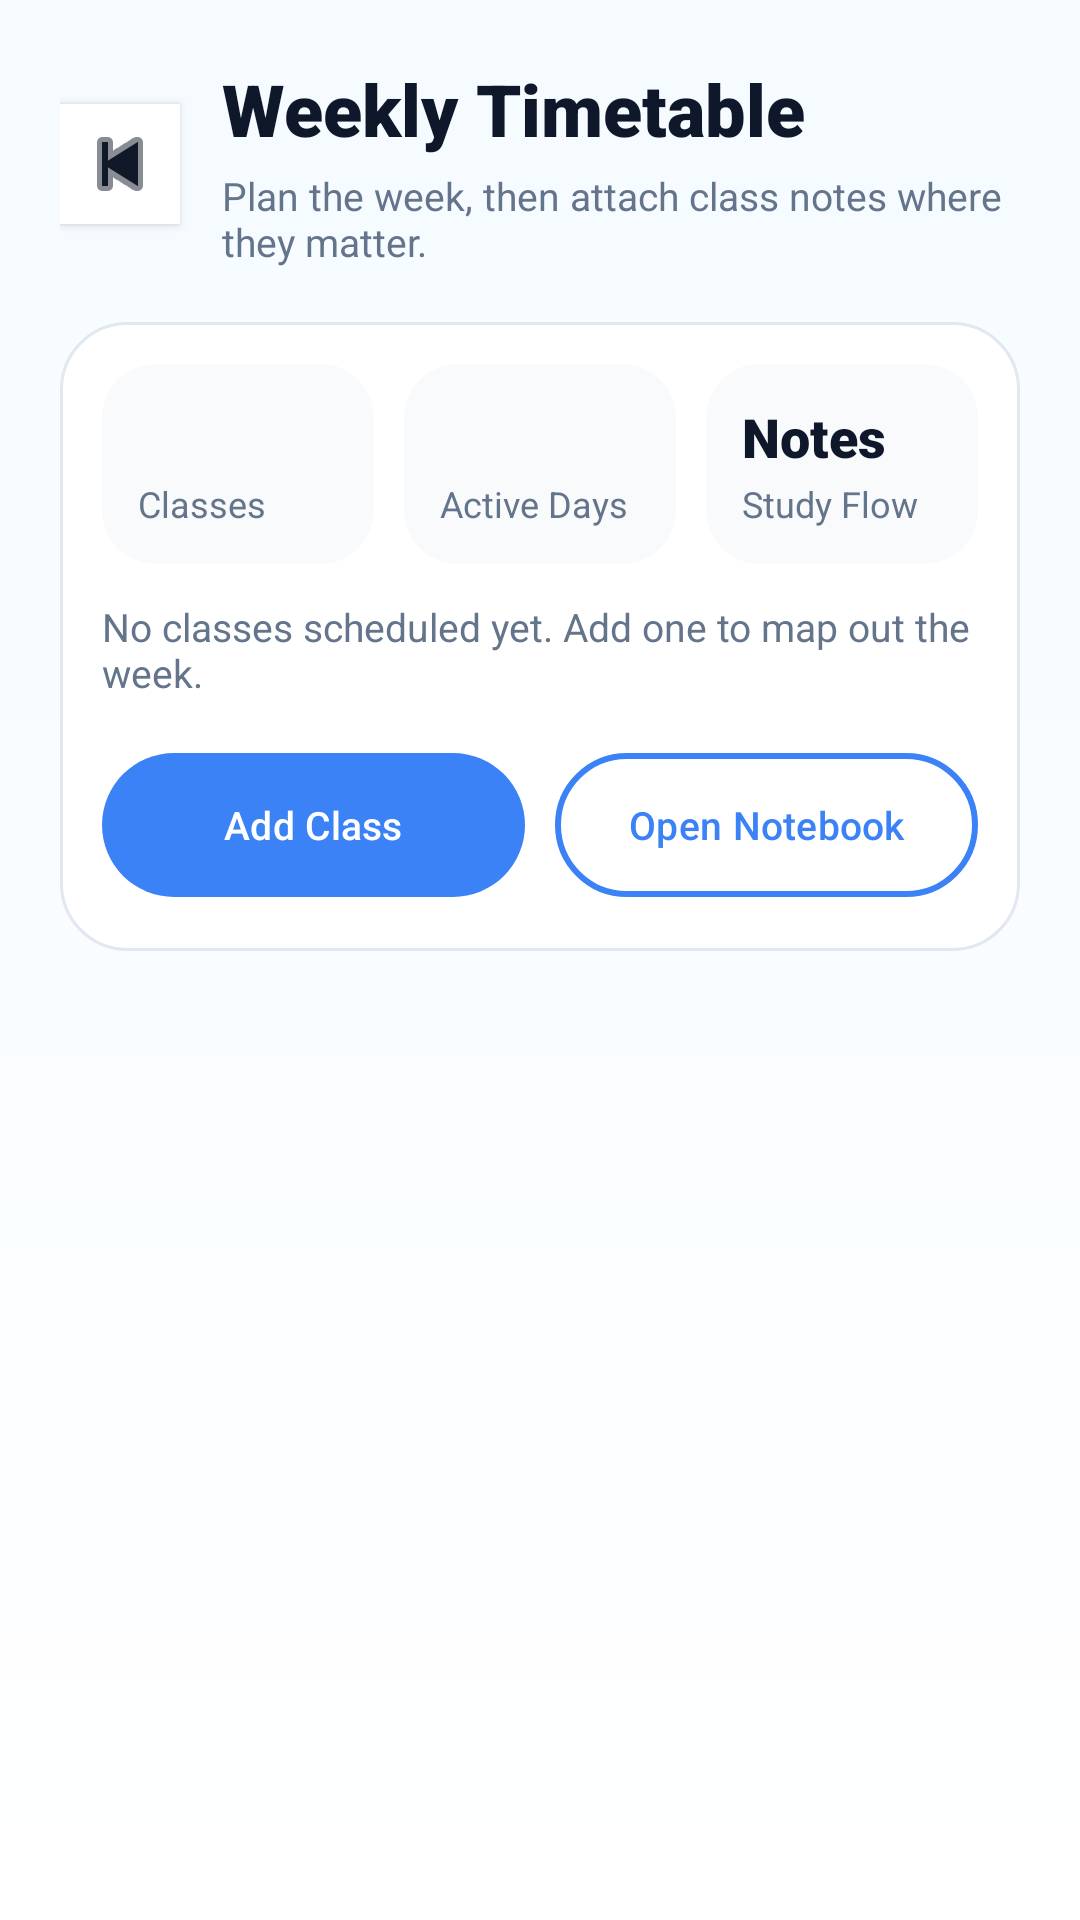

Screen size 1080×1920. Icon name, then its center in pixels as (x,y):
Go back: (120,164)
